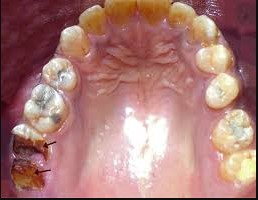UL1BC_healthy: (197, 44, 234, 70)
UL1M_decay: (214, 110, 254, 149)
UL2BC_healthy: (209, 74, 240, 106)
UL2M_decay: (223, 150, 258, 181)
ULCI_decay: (140, 1, 171, 27)
ULC_decay: (190, 17, 219, 45)
ULLI_decay: (172, 1, 194, 30)
UR1BC_decay: (43, 59, 78, 90)
UR1M_decay: (14, 126, 52, 161)
UR2BC_decay: (27, 86, 67, 129)
UR2M_decay: (9, 162, 47, 195)
URCI_decay: (105, 1, 137, 26)
URC_decay: (61, 27, 91, 57)
URLI_decay: (81, 7, 107, 32)
